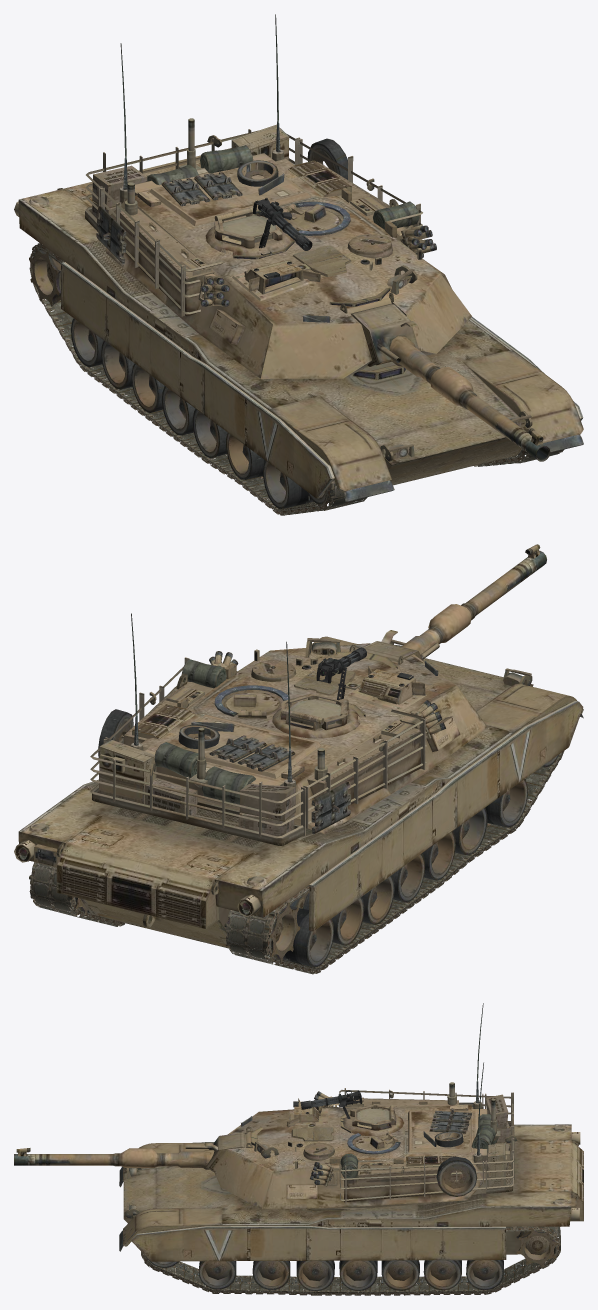
The picture shows the model from 3 angles, top to bottom: view 1: azimuth 30°, elevation 25°; view 2: azimuth 150°, elevation 25°; view 3: azimuth 270°, elevation 25°; orthographic projection. The views are drawn at different scales.
Visible parts, largest first — view 1: Turret_split_5, Object_5, Object_2, Turret_3; view 2: Turret_split_5, Object_5, Object_2, Turret_3; view 3: Turret_split_5, Object_5, Object_2, Turret_3.
Boxes of the visible parts, x1,y1,x2,y2 form: Turret_split_5: [14, 14, 570, 461]; Object_5: [29, 246, 583, 508]; Object_2: [29, 243, 564, 515]; Turret_3: [253, 198, 312, 250]; Turret_split_5: [14, 544, 569, 917]; Object_5: [29, 642, 583, 967]; Object_2: [29, 751, 564, 974]; Turret_3: [316, 647, 366, 683]; Turret_split_5: [14, 1003, 583, 1228]; Object_5: [119, 1142, 583, 1291]; Object_2: [141, 1226, 560, 1295]; Turret_3: [300, 1090, 362, 1109].
Bounding box in the file's own units: 252 × 308 × 709.
Materials: 4 (4 with a texture image).
